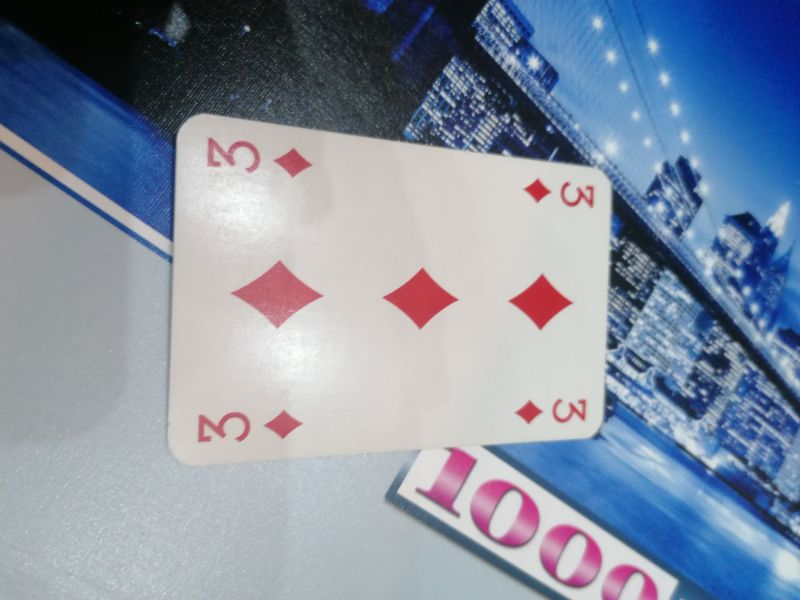3d: (201, 131, 316, 180), (190, 402, 305, 446), (518, 172, 599, 212), (512, 393, 591, 429)
